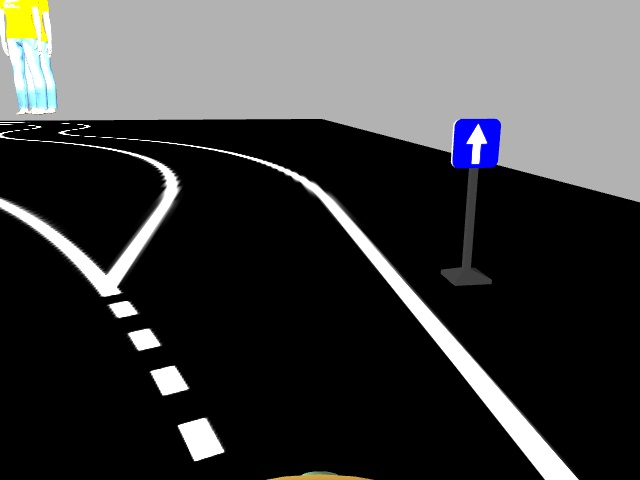OneWay: (449, 117, 499, 167)
